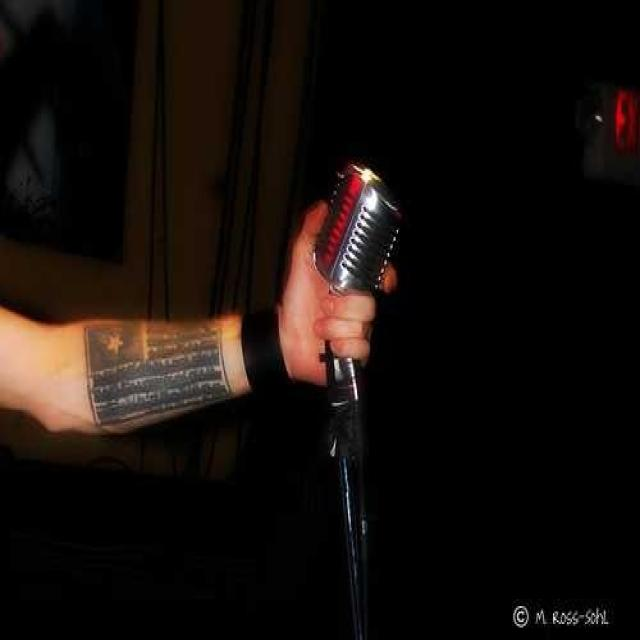microphone: (308, 159, 406, 632)
